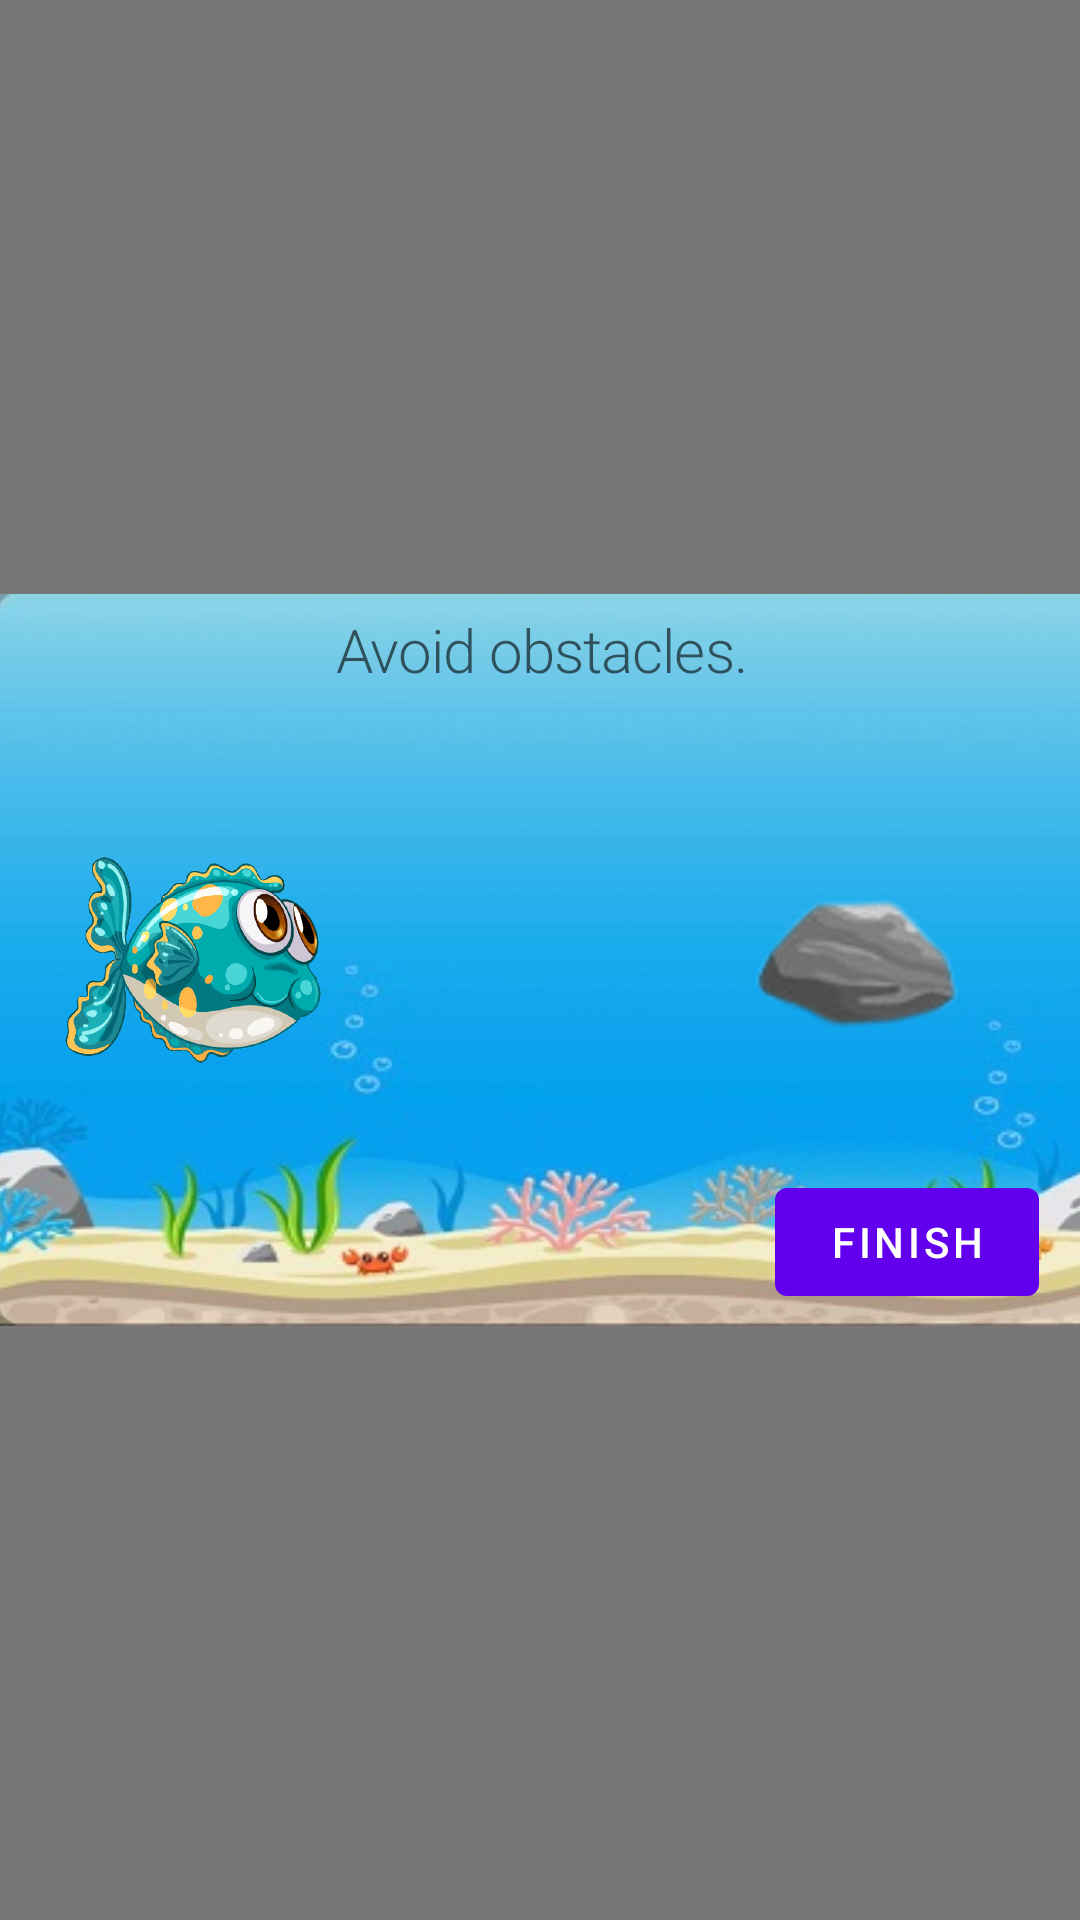

Point at icon controls on the screen. Image size 1080x1920, points as (x,y).
fish player: (193,960)
stone: (856,962)
